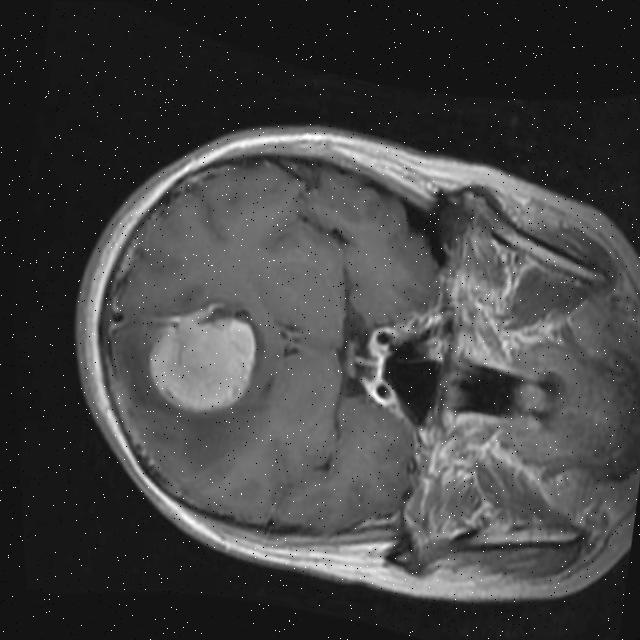Meningioma: (135, 288, 271, 426)
Pituitary: (359, 349, 393, 383)
